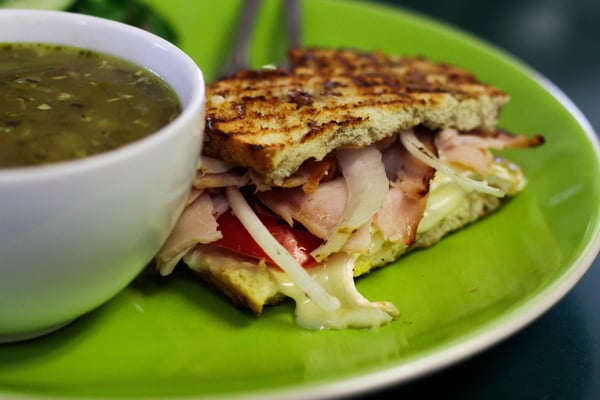soup: (198, 45, 538, 275)
sushi: (0, 8, 206, 346)
